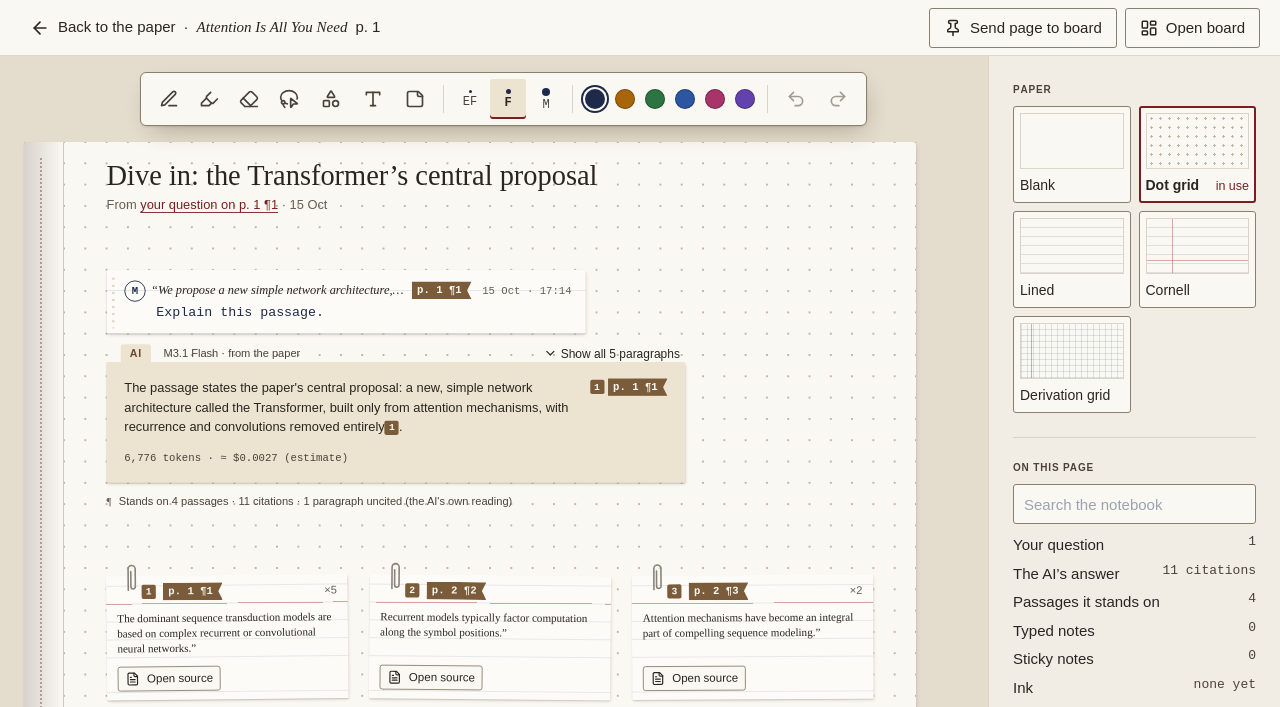
Test: one card per page, across tabs › a second tab that has not seen the card sends the same id and gets the one card
Click the button "Send page to board": {"x": 1023, "y": 28} x1=929 y1=8 x2=1117 y2=48
(page scrolled)
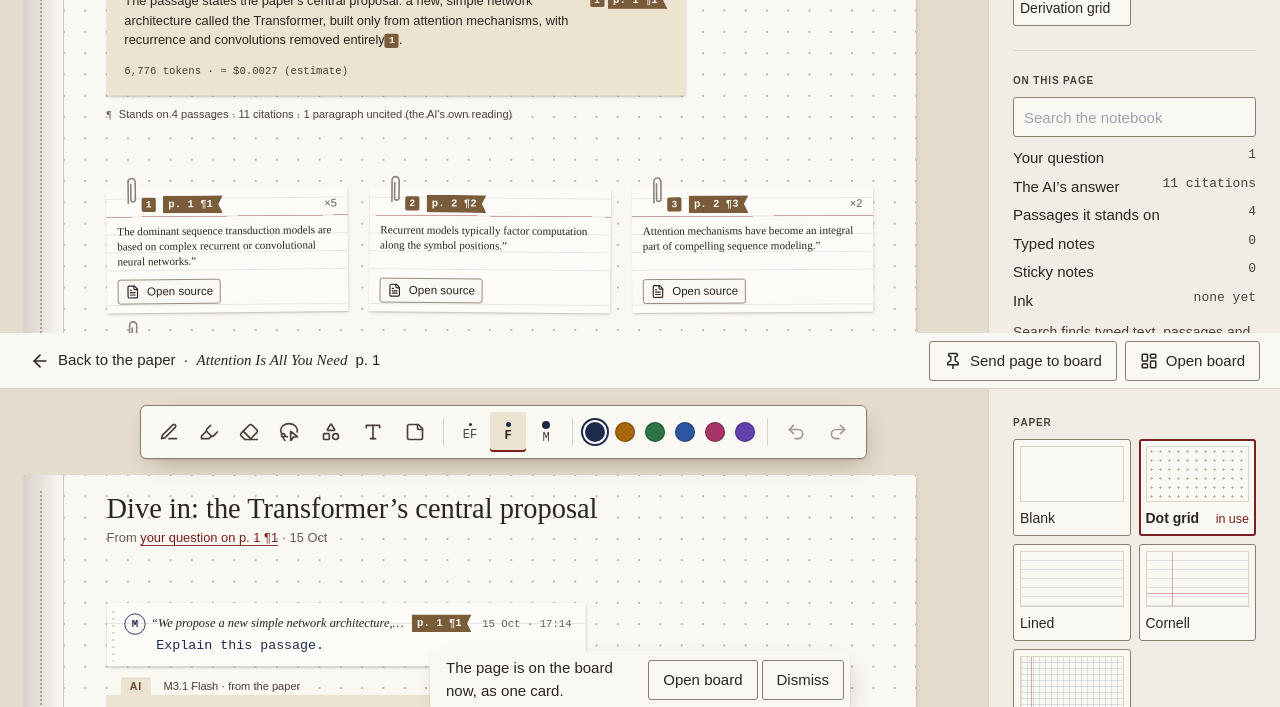
Expected: the text "The page is on the board now, as one card." is shown, x1=446 y1=659 x2=613 y2=698
Click the button "Send page to board": {"x": 1023, "y": 360} x1=929 y1=340 x2=1117 y2=380
(page scrolled)
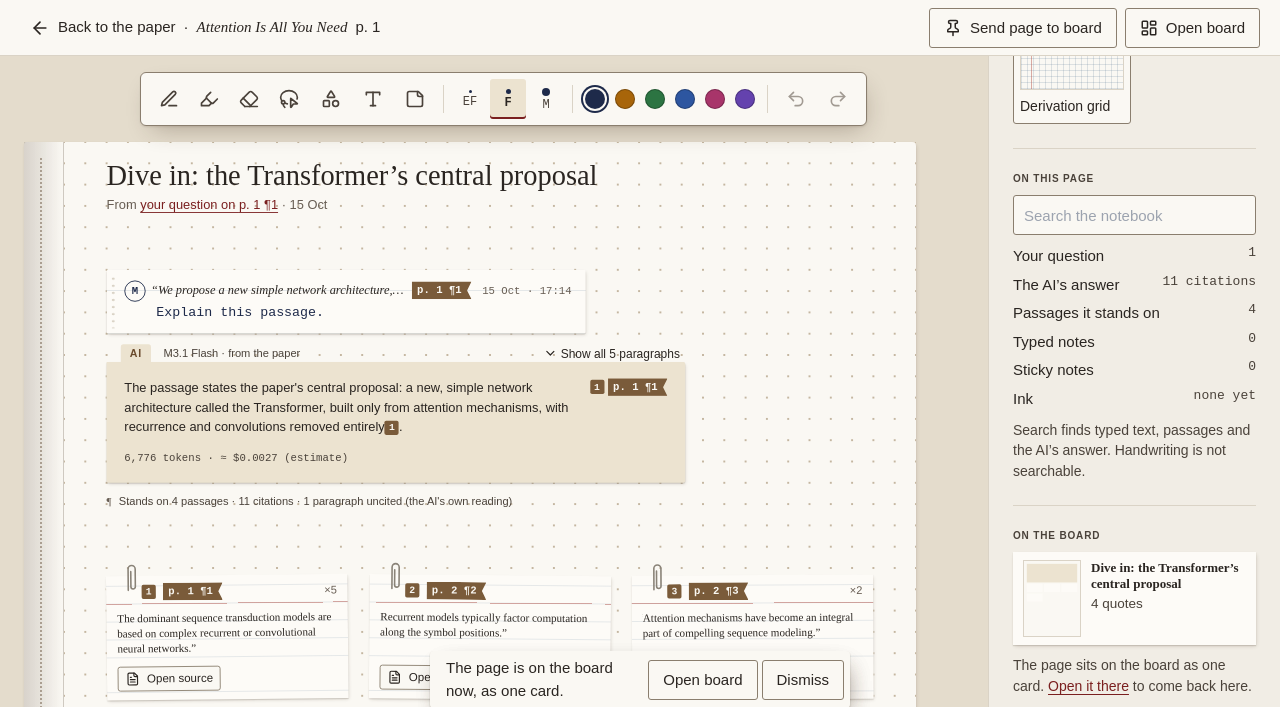
Expected: the text "4 quotes" is shown, x1=1091 y1=596 x2=1143 y2=611
